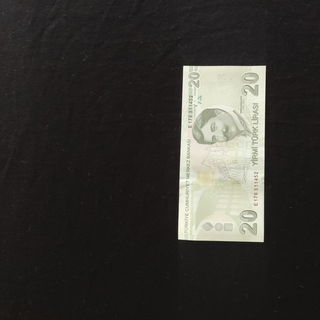20TLBack: (177, 64, 264, 243)
